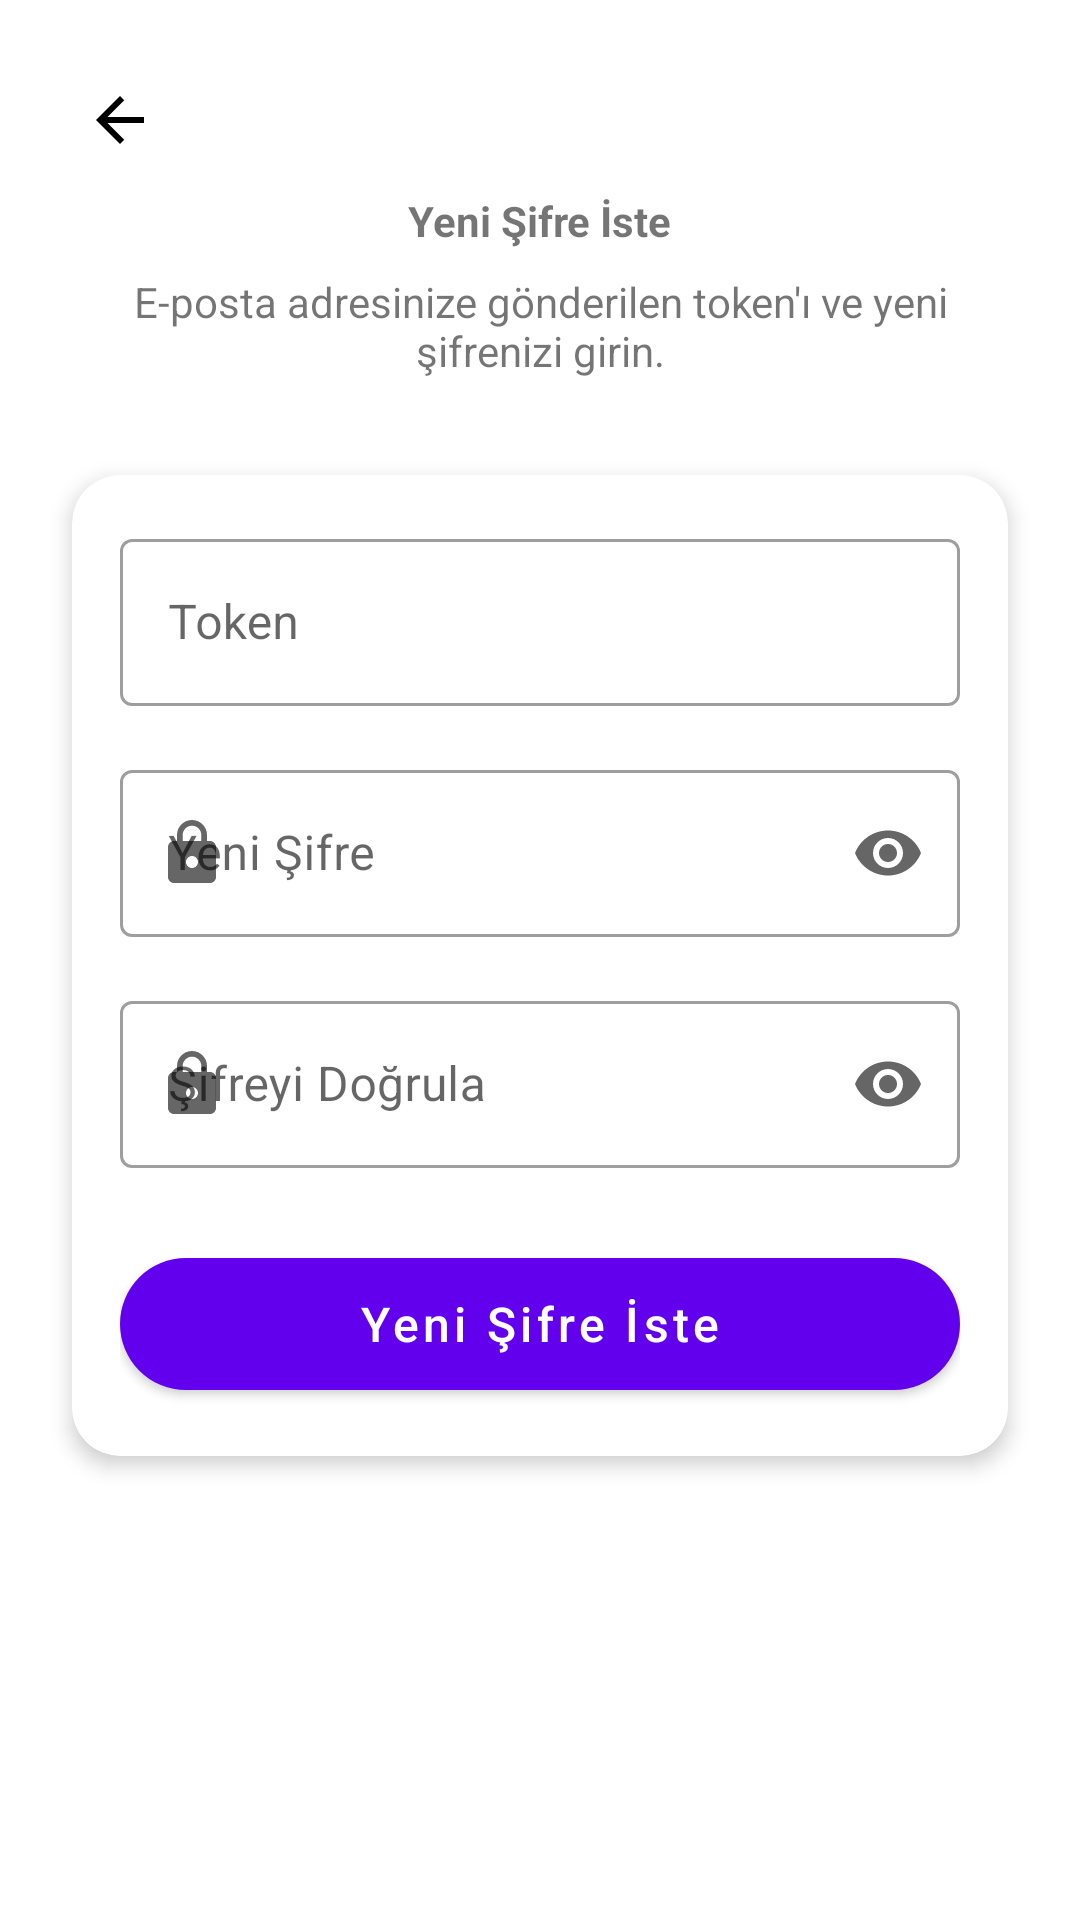

Screen size 1080 × 1920. Icon name, then its center in pixels as [x,y]:
Geri: [120,120]
